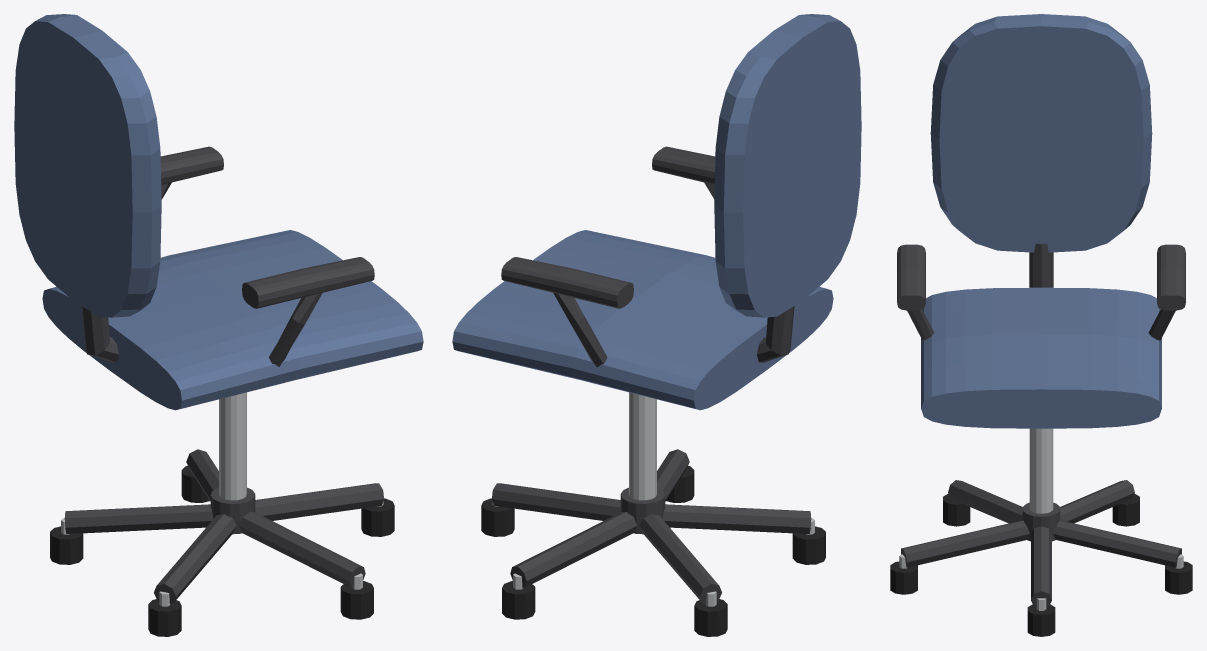
File: SM_Prop_OfficeChair.fbx
3 renders of one model, left to right at view 1: azimuth 30°, elevation 25°; view 2: azimuth 150°, elevation 25°; view 3: azimuth 270°, elevation 25°, orthographic. The views are drawn at different scales.
Parts seen in each view (by area): view 1: SM_Prop_OfficeChair; view 2: SM_Prop_OfficeChair; view 3: SM_Prop_OfficeChair.
Boxes of the visible parts, left/top/right/bottom form: SM_Prop_OfficeChair: left=14, top=14, right=423, bottom=636; SM_Prop_OfficeChair: left=452, top=14, right=861, bottom=636; SM_Prop_OfficeChair: left=890, top=14, right=1192, bottom=636.
Size of the model in its own units: 0.6277 by 0.66 by 1.12.
